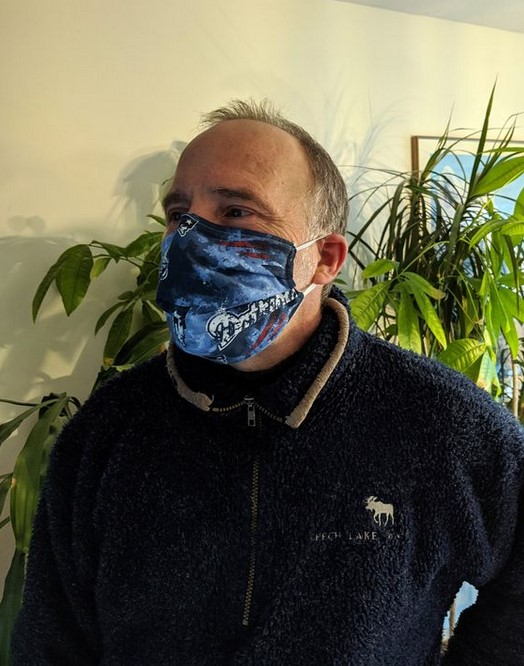face_with_mask: (152, 104, 348, 364)
